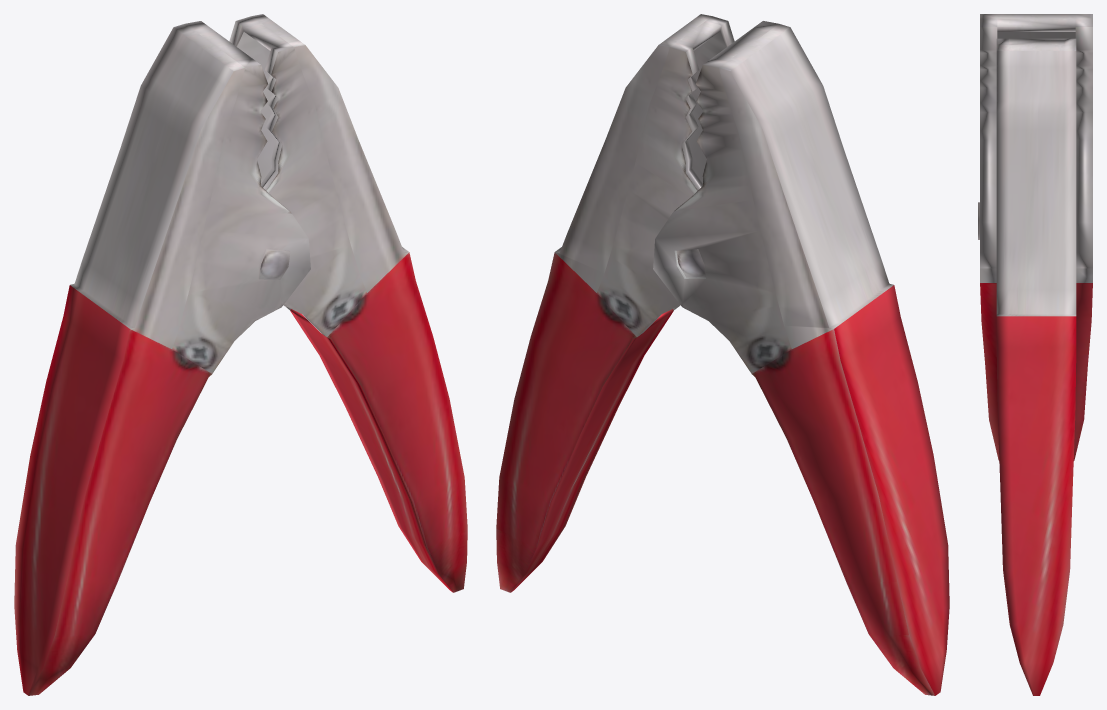
File: clip(1).fbx
3 views of the same model, side by side, from view 1: azimuth 30°, elevation 25°; view 2: azimuth 150°, elevation 25°; view 3: azimuth 270°, elevation 25° (orthographic). The views are drawn at different scales.
Visible parts, largest first — view 1: Cube, Cube.001; view 2: Cube, Cube.001; view 3: Cube.001, Cube.
Boxes of the visible parts, bbox=[...] form: Cube: bbox=[14, 21, 310, 695]; Cube.001: bbox=[229, 14, 467, 592]; Cube: bbox=[653, 21, 949, 695]; Cube.001: bbox=[496, 14, 734, 592]; Cube.001: bbox=[996, 38, 1076, 695]; Cube: bbox=[978, 14, 1092, 460].
Bounding box in the file's own units: 183 × 242 × 44.62.
